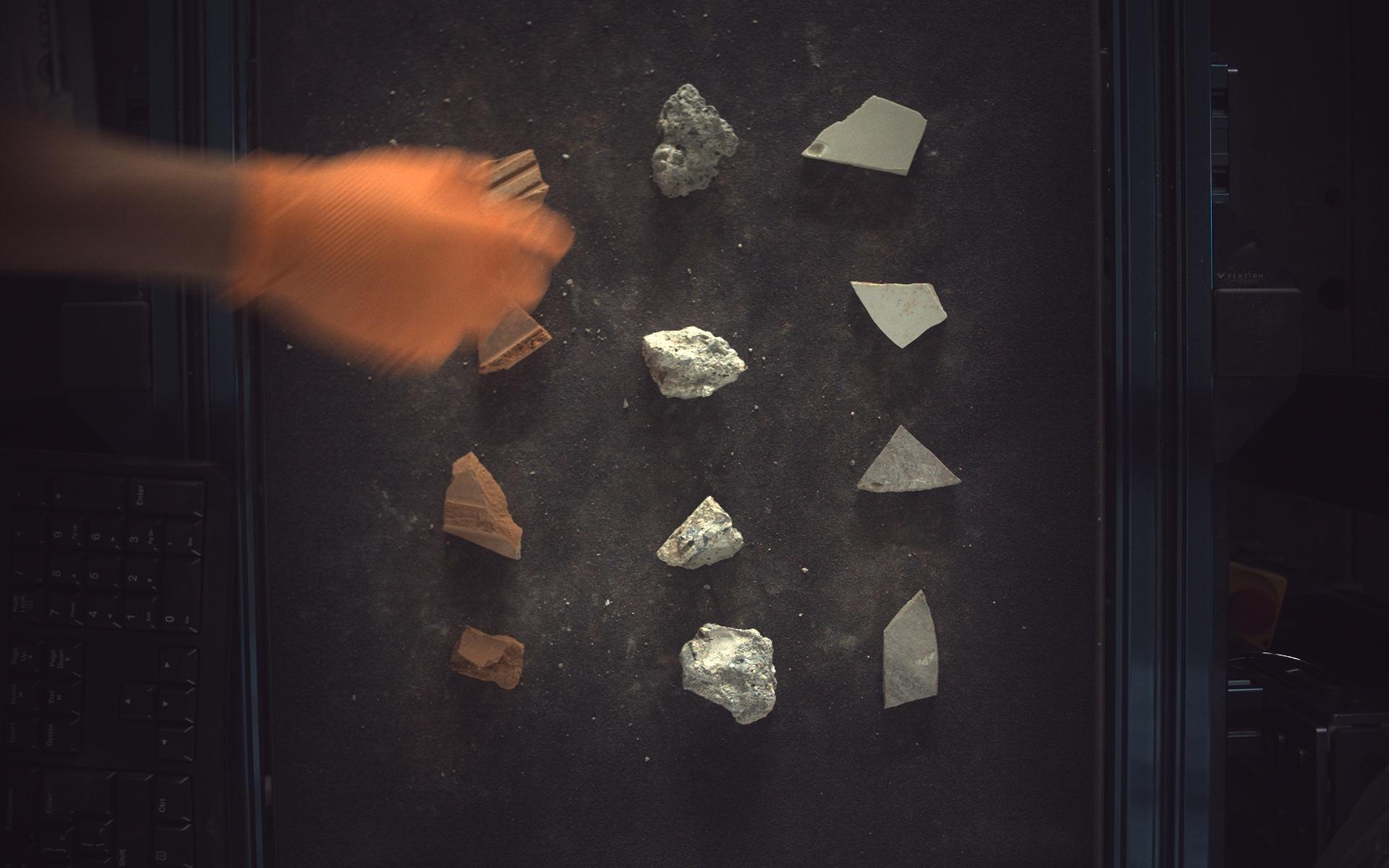brick: (443, 452, 522, 560), (479, 309, 551, 374), (452, 627, 524, 691), (488, 148, 550, 203)
concrete: (653, 82, 739, 197), (681, 624, 777, 726), (643, 326, 748, 399), (658, 496, 744, 570)
tile: (804, 94, 929, 174), (859, 426, 963, 493), (885, 591, 940, 710), (853, 281, 949, 348)
